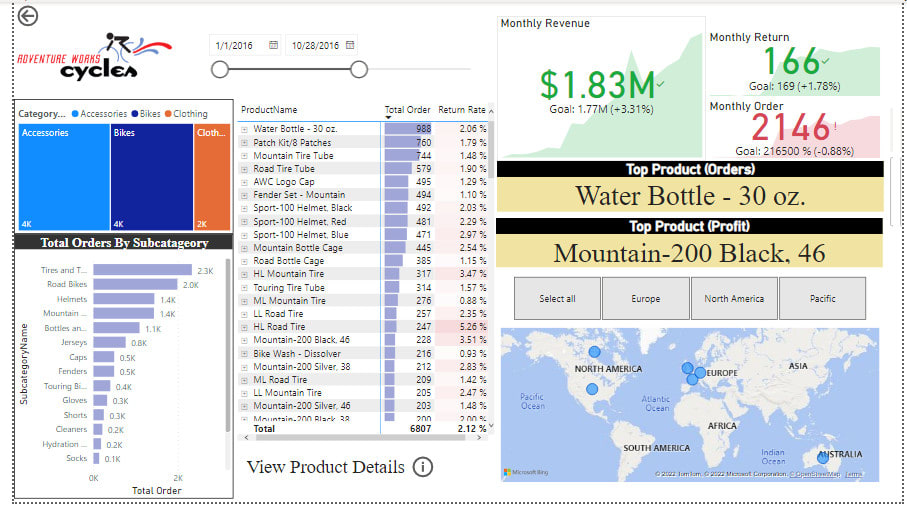

Layout of this report page (visuals, bound fields, positions):
{"tool":"powerbi","page":{"name":"Exec Summary","canvas":[1280,720],"ordinal":0},"visuals":[{"type":"qnaVisual","box":[1267.2,139.7,13,364.3],"z":0},{"type":"qnaVisual","box":[1253.3,140,13.3,461.7],"z":1000},{"type":"image","box":[0,0,235,156.7],"z":2000},{"type":"treemap","title":"Total Orders By Category","fields":{"Group":["AW_Product_Categories_Lookup.CategoryName","AW_Product_Subcategories_Lookup.SubcategoryName"],"Values":["AW_Sales.Total Order"]},"box":[0,140,315.7,194.3],"z":3000},{"type":"actionButton","box":[0,0,100,40],"z":4000},{"type":"barChart","title":"Total Orders By Subcatageory","fields":{"Y":["AW_Sales.Total Order"],"Category":["AW_Product_Subcategories_Lookup.SubcategoryName"]},"box":[0,334.3,315.7,381.4],"z":5000},{"type":"pivotTable","fields":{"Values":["AW_Sales.Total Order","AW_Returns.Return Rate"],"Rows":["AW_Products_Lookup.ProductName","AW_Product_Categories_Lookup.CategoryName","AW_Product_Subcategories_Lookup.SubcategoryName"]},"box":[316.7,140,380,496.7],"z":6000},{"type":"slicer","fields":{"Values":["AW_Calendar_Lookup.Date"]},"box":[267.1,35.7,412.9,85.7],"z":7000},{"type":"kpi","title":"Monthly Revenue","fields":{"Indicator":["AW_Sales.Total Revenue"],"TrendLine":["AW_Calendar_Lookup.Start of Month"],"Goal":["AW_Sales.Prev Month Revenue"]},"box":[695.7,20,301.4,208.6],"z":8000},{"type":"kpi","title":"Monthly Order","fields":{"TrendLine":["AW_Calendar_Lookup.Start of Month"],"Goal":["AW_Sales.Prev Month Order"],"Indicator":["AW_Sales.Total Order"]},"box":[997.1,140,255.7,90],"z":9000},{"type":"kpi","title":"Monthly Return","fields":{"TrendLine":["AW_Calendar_Lookup.Start of Month"],"Goal":["AW_Returns.Prev Month Returns"],"Indicator":["AW_Returns.Total Returns"]},"box":[997.1,40,255.7,100],"z":10000},{"type":"card","title":"Top Product (Orders)","fields":{"Values":["Min(AW_Products_Lookup.ProductName)"]},"box":[695.7,228.6,557.1,72.9],"z":11000},{"type":"card","title":"Top Product (Profit)","fields":{"Values":["Min(AW_Products_Lookup.ProductName)"]},"box":[694.3,311.4,557.1,71.4],"z":12000},{"type":"map","fields":{"Category":["AW_Territories_Lookup.Country"]},"box":[695.7,464.3,555.7,232.9],"z":13000},{"type":"slicer","fields":{"Values":["AW_Territories_Lookup.Continent"]},"box":[694.3,388.6,557.1,75.7],"z":14000},{"type":"textbox","box":[330,650,350,48.3],"z":15000},{"type":"actionButton","box":[568.3,650,100,40],"z":16000}]}

Visuals, with their boxes in screenshot pixels (x1, y1, x2, y2), scaled from the page's 1280x720 canvas onto the 907x509 screenshot:
qnaVisual: [x1=898, y1=99, x2=906, y2=356]
qnaVisual: [x1=888, y1=99, x2=898, y2=425]
image: [x1=0, y1=0, x2=167, y2=111]
"Total Orders By Category" treemap: [x1=0, y1=99, x2=224, y2=236]
actionButton: [x1=0, y1=0, x2=71, y2=28]
"Total Orders By Subcatageory" barChart: [x1=0, y1=236, x2=224, y2=506]
pivotTable - AW_Sales.Total Order x AW_Returns.Return Rate: [x1=224, y1=99, x2=494, y2=450]
slicer - AW_Calendar_Lookup.Date: [x1=189, y1=25, x2=482, y2=86]
"Monthly Revenue" kpi: [x1=493, y1=14, x2=707, y2=162]
"Monthly Order" kpi: [x1=707, y1=99, x2=888, y2=163]
"Monthly Return" kpi: [x1=707, y1=28, x2=888, y2=99]
"Top Product (Orders)" card: [x1=493, y1=162, x2=888, y2=213]
"Top Product (Profit)" card: [x1=492, y1=220, x2=887, y2=271]
map - AW_Territories_Lookup.Country: [x1=493, y1=328, x2=887, y2=493]
slicer - AW_Territories_Lookup.Continent: [x1=492, y1=275, x2=887, y2=328]
textbox: [x1=234, y1=460, x2=482, y2=494]
actionButton: [x1=403, y1=460, x2=474, y2=488]
